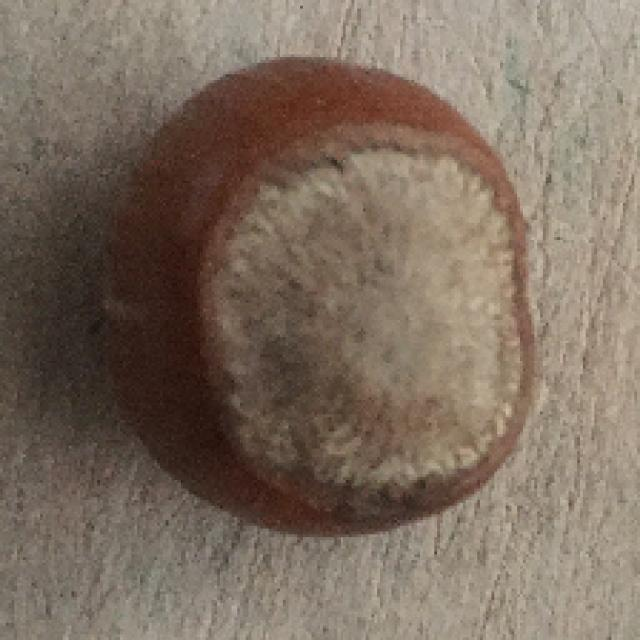QualityHazelnut: (93, 59, 535, 537)
